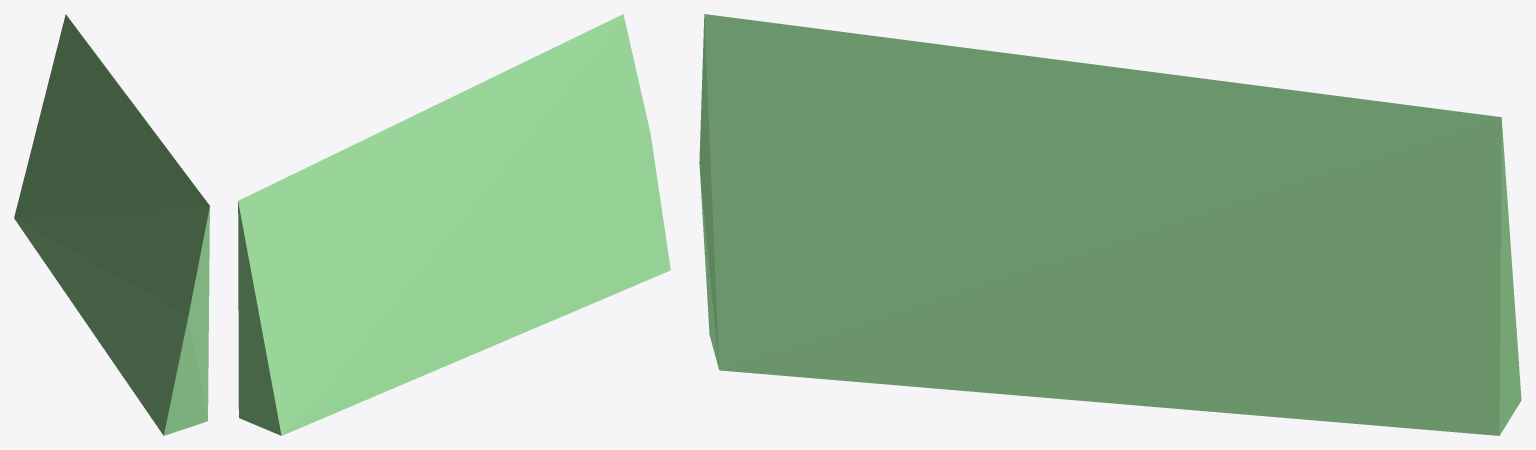
Rendered from spatula_robot_base_coll_6.dae.
3 renders of one model, left to right at view 1: azimuth 30°, elevation 25°; view 2: azimuth 150°, elevation 25°; view 3: azimuth 270°, elevation 25°, orthographic. The views are drawn at different scales.
Visible parts, largest first — view 1: Node_0x7fe6917b6bb0; view 2: Node_0x7fe6917b6bb0; view 3: Node_0x7fe6917b6bb0.
Boxes of the visible parts, x1,y1,x2,y2 form: Node_0x7fe6917b6bb0: [14, 14, 209, 435]; Node_0x7fe6917b6bb0: [238, 14, 670, 435]; Node_0x7fe6917b6bb0: [699, 14, 1521, 435].
Size of the model in its own units: 0.0125 by 0.0179 by 0.0375.
